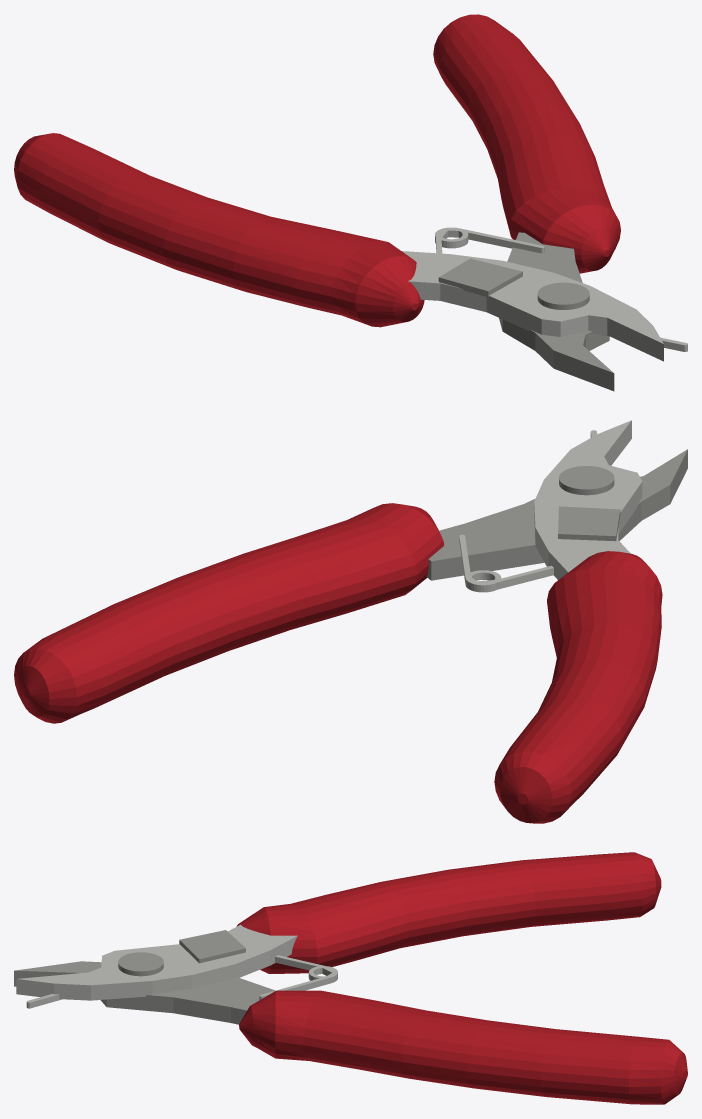
The model's file is working.glb.
The picture shows the model from 3 angles, top to bottom: view 1: azimuth 30°, elevation 25°; view 2: azimuth 150°, elevation 25°; view 3: azimuth 270°, elevation 25°; orthographic projection. The views are drawn at different scales.
Visible parts, largest first — view 1: Left red grip, Right red grip, Right jaw and left tang, Left jaw and right tang, Wire guard plate, Loop spring and legs, Pivot; view 2: Right red grip, Left red grip, Left jaw and right tang, Right jaw and left tang, Wire guard plate, Loop spring and legs, Pivot; view 3: Right red grip, Left red grip, Right jaw and left tang, Left jaw and right tang, Wire guard plate, Loop spring and legs, Pivot.
Part boxes in pixels (left/top/right/bottom): Left red grip: left=14, top=133, right=424, bottom=327; Right red grip: left=433, top=14, right=620, bottom=273; Right jaw and left tang: left=402, top=251, right=663, bottom=361; Left jaw and right tang: left=499, top=232, right=614, bottom=391; Wire guard plate: left=438, top=258, right=522, bottom=297; Loop spring and legs: left=435, top=227, right=544, bottom=253; Pivot: left=537, top=282, right=589, bottom=309; Right red grip: left=14, top=503, right=444, bottom=723; Left red grip: left=494, top=551, right=662, bottom=823; Left jaw and right tang: left=426, top=449, right=687, bottom=580; Right jaw and left tang: left=534, top=420, right=642, bottom=579; Wire guard plate: left=558, top=506, right=620, bottom=541; Loop spring and legs: left=459, top=534, right=553, bottom=592; Pivot: left=559, top=466, right=614, bottom=495; Right red grip: left=239, top=990, right=687, bottom=1104; Left red grip: left=236, top=852, right=661, bottom=973; Right jaw and left tang: left=16, top=924, right=297, bottom=1000; Left jaw and right tang: left=14, top=961, right=275, bottom=1024; Wire guard plate: left=179, top=930, right=245, bottom=963; Loop spring and legs: left=259, top=955, right=337, bottom=1000; Pivot: left=118, top=952, right=163, bottom=976.
Size of the model in its own units: 0.0788 by 0.01 by 0.1037.
